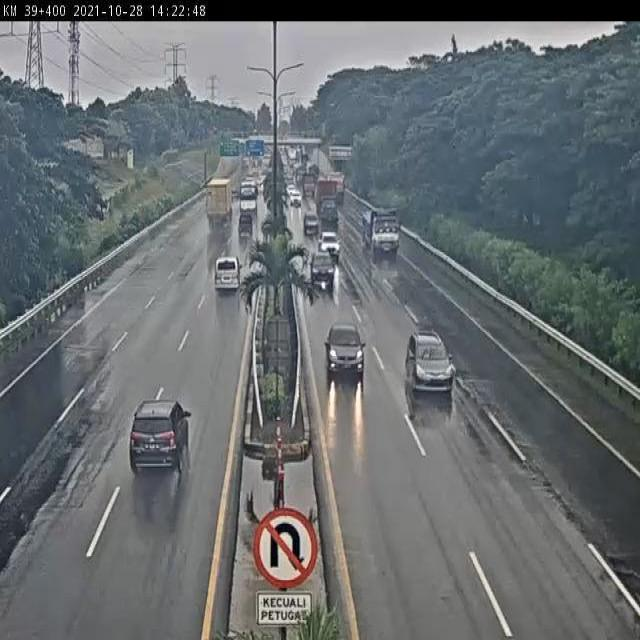car: (127, 399, 191, 477), (404, 331, 457, 397), (323, 324, 366, 384), (309, 252, 338, 289), (213, 255, 241, 289)
truck-l-: (362, 206, 404, 258)
